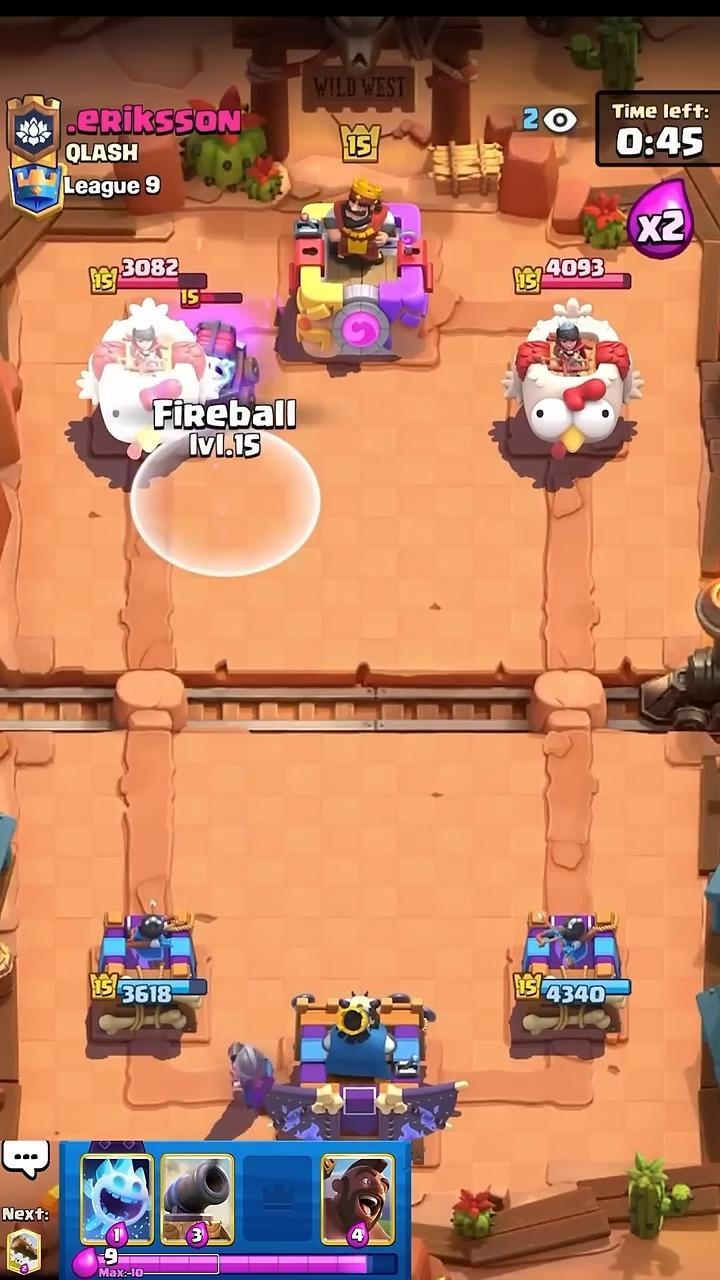musketeer: (229, 1042, 274, 1109)
sparky: (196, 320, 258, 406)
